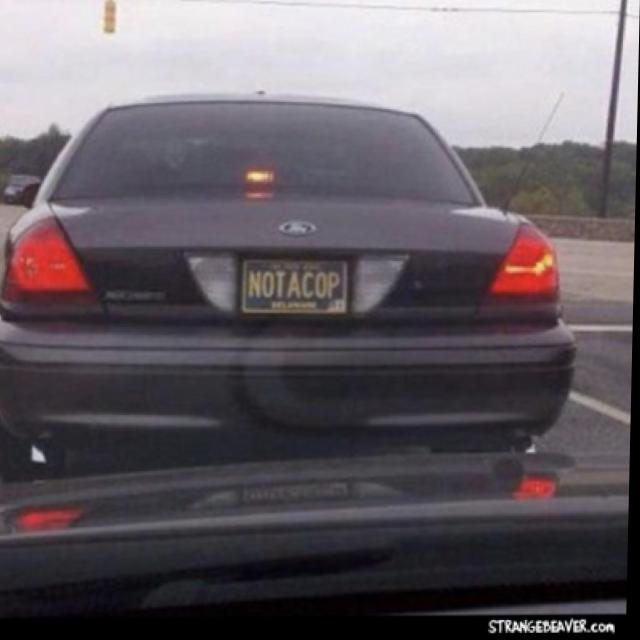licence: (243, 255, 349, 315)
